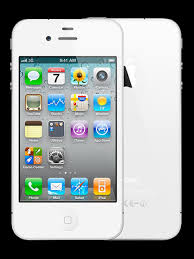iphone4: (8, 18, 126, 244)
